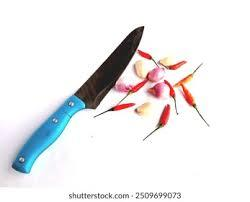Knife: (11, 25, 144, 173)
